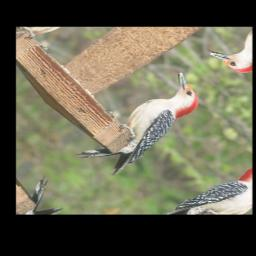Woodpecker: (64, 68, 218, 183)
